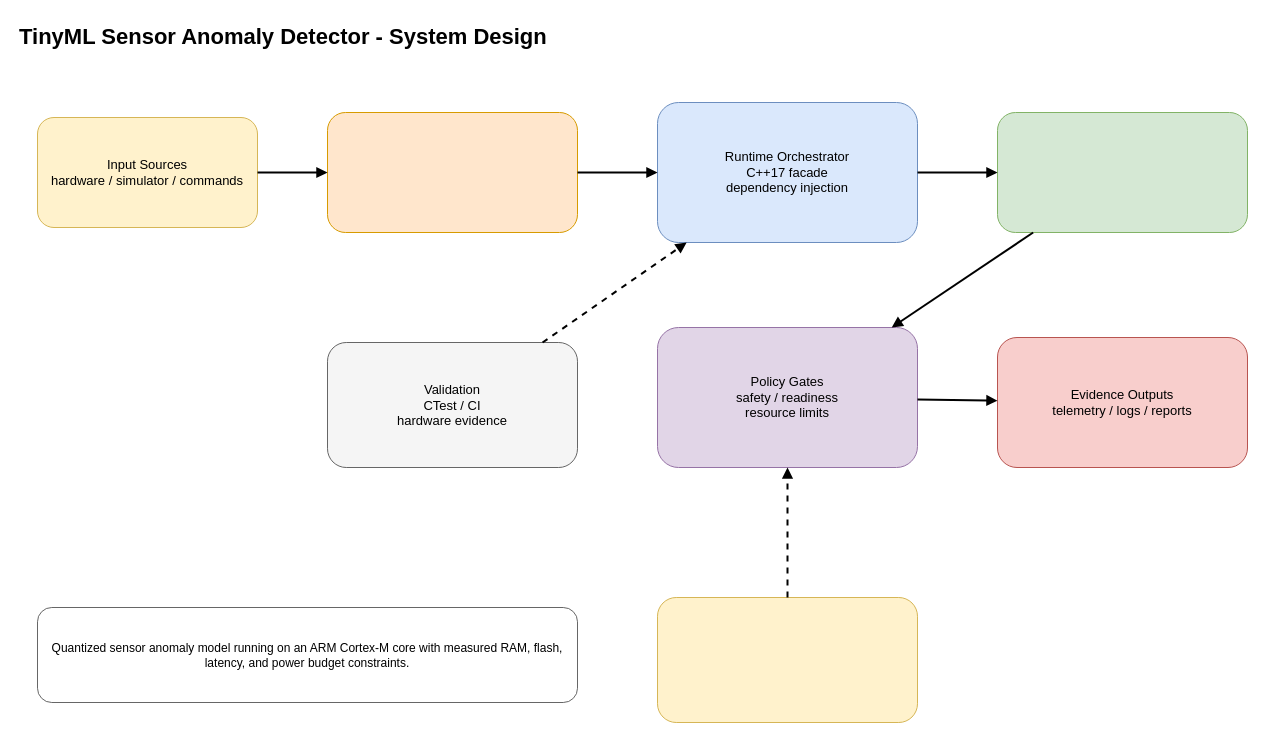
The diagram is 1265 pixels wide and 740 high, and some of its shapes have lost their labels. Each missing label, with the centre of its shape:
Adapter Layer bus / OS / driver / transport: (452,172)
Domain Model typed state project decision: (1122,172)
Roadmap design / host runtime target adapters / evidence: (787,659)
